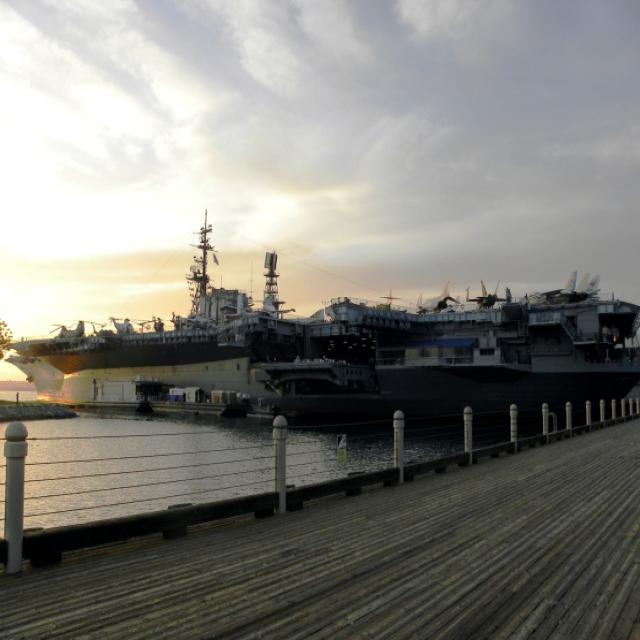Portanaves: (6, 209, 639, 421), (1, 213, 301, 408)
